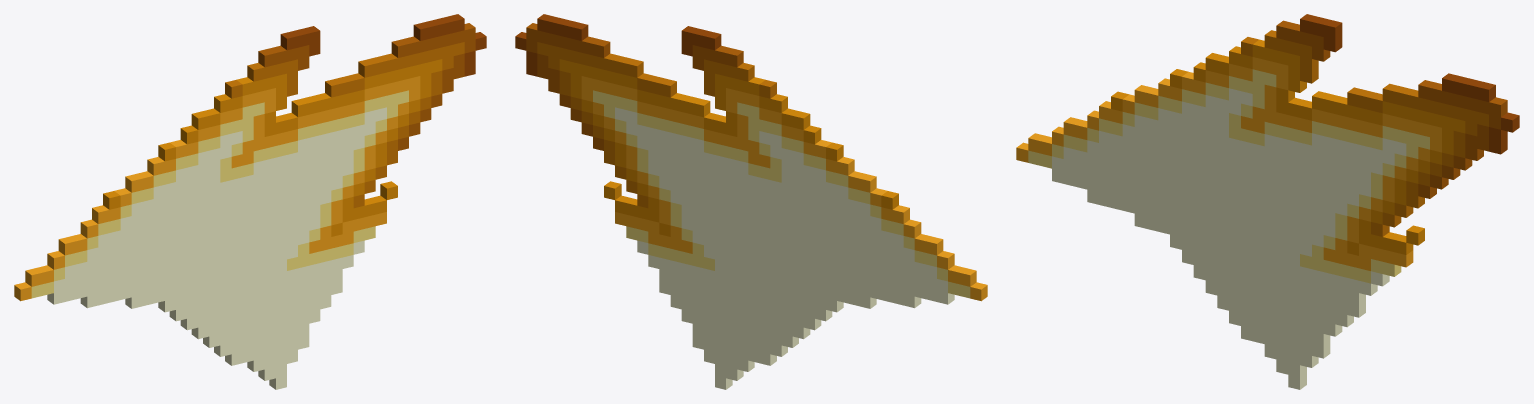
The model's file is Fight_733_2_07_fx.obj.
The picture shows the model from 3 angles, left to right: view 1: azimuth 30°, elevation 25°; view 2: azimuth 150°, elevation 25°; view 3: azimuth 330°, elevation 25°; orthographic projection. The views are drawn at different scales.
Size of the model in its own units: 4.2 by 3 by 0.1.
